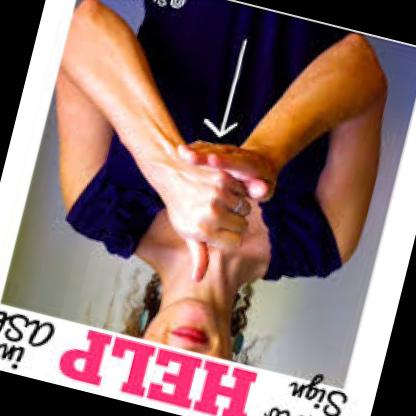help: (122, 105, 303, 312)
